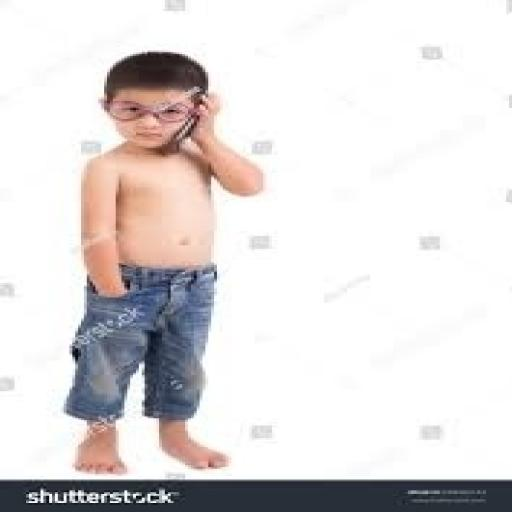calling: (61, 49, 266, 476)
